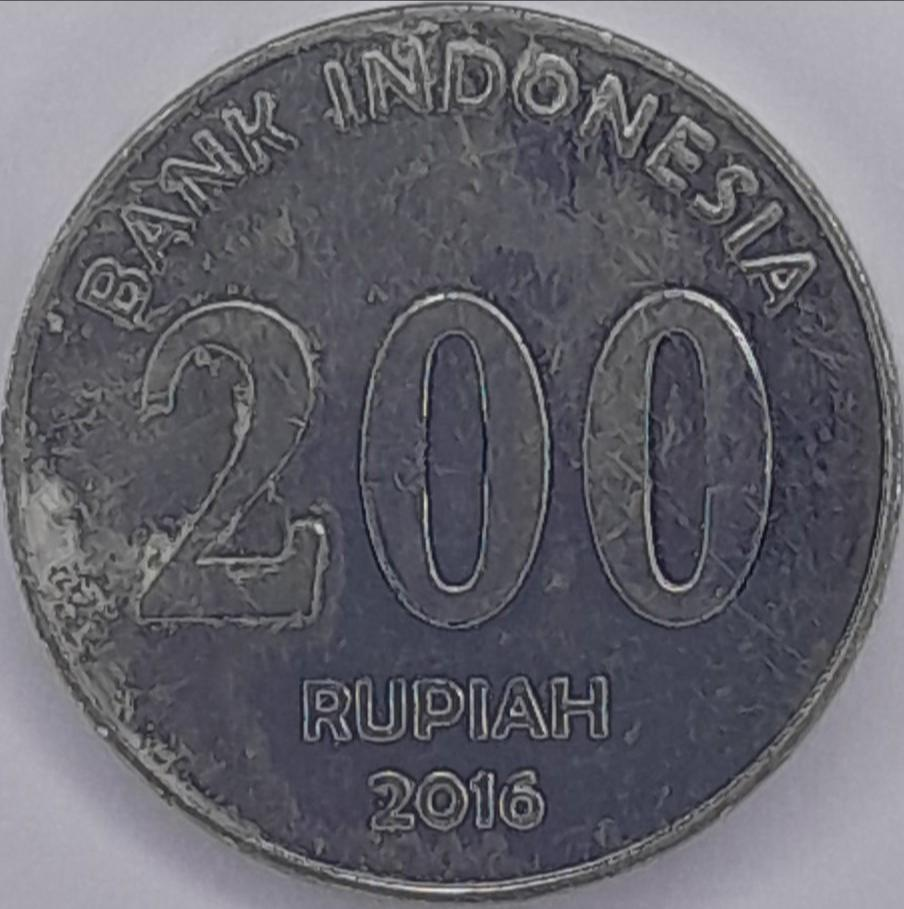coin_200_e2016: (0, 16, 904, 909)
